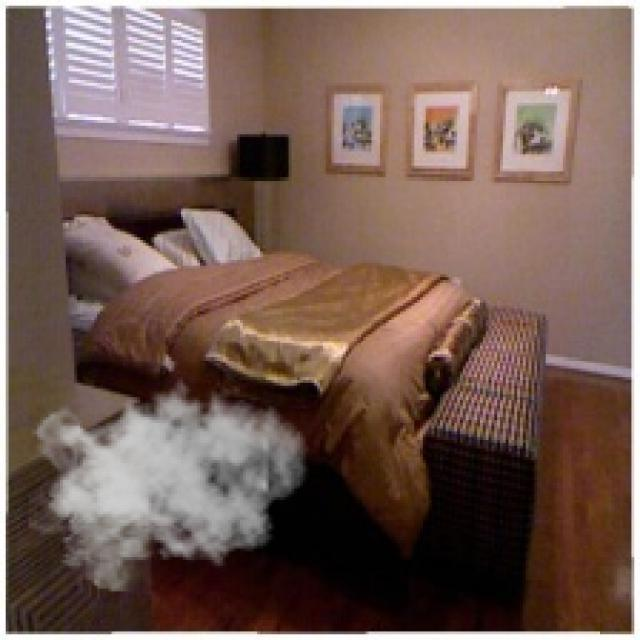smoke: (29, 368, 308, 592)
